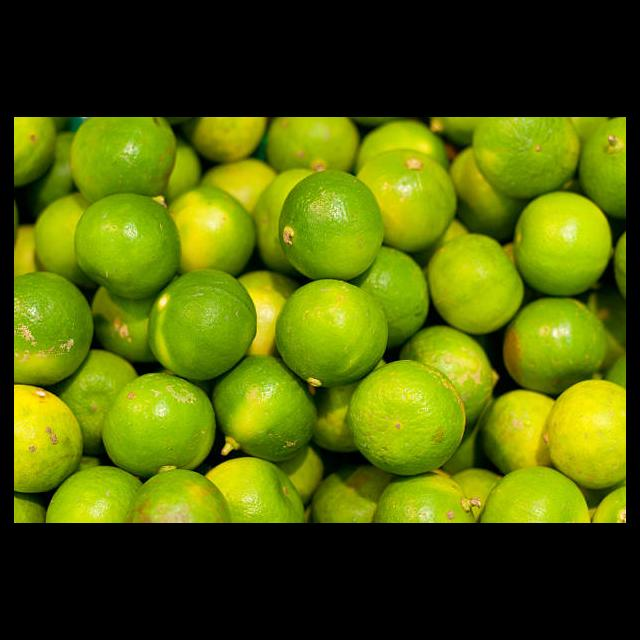lime: (349, 361, 466, 474), (102, 373, 222, 482), (274, 279, 388, 389), (73, 194, 182, 298), (515, 190, 616, 299), (14, 272, 94, 387), (14, 385, 82, 496), (14, 117, 61, 234)
